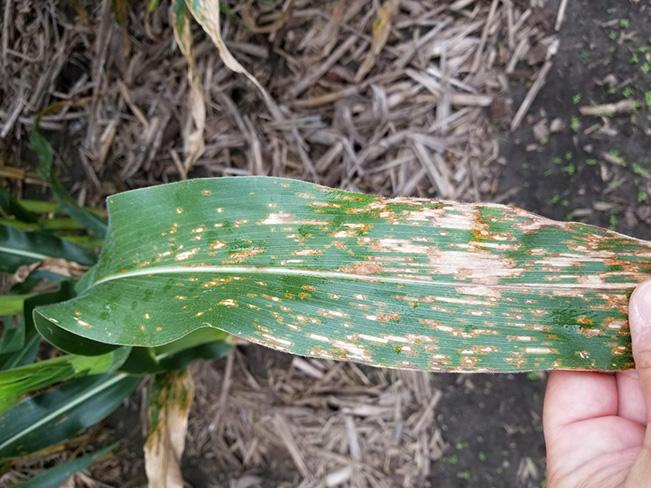Corn Gray leaf spot: (35, 174, 630, 372)
